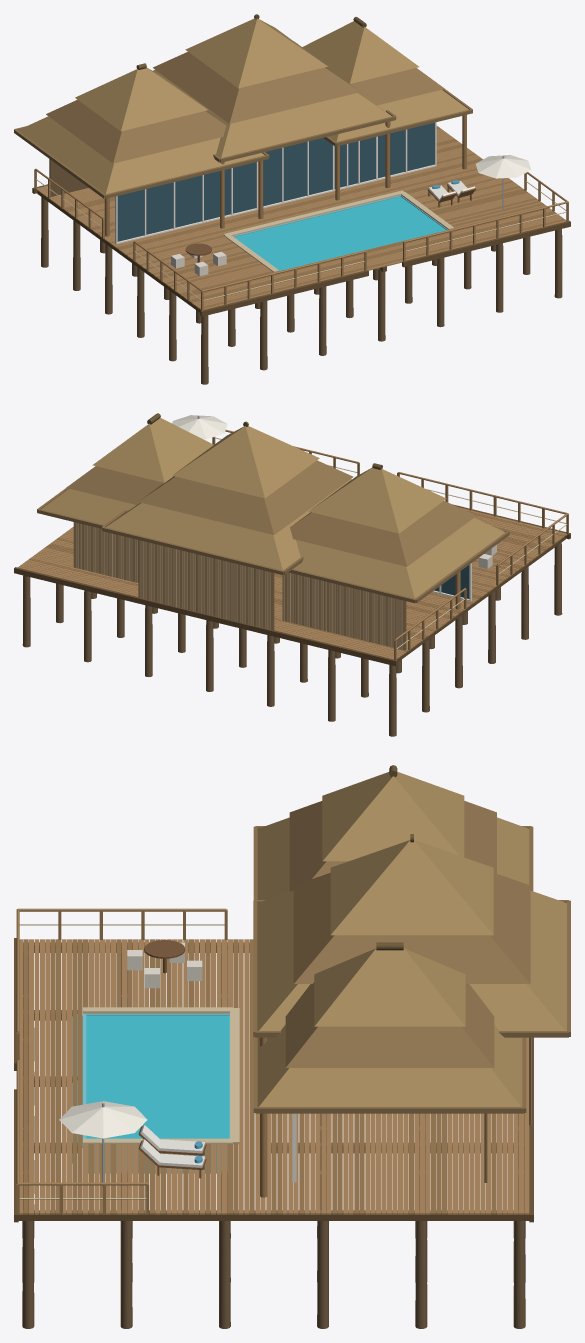
File: grand.glb
The picture shows the model from 3 angles, top to bottom: view 1: azimuth 30°, elevation 25°; view 2: azimuth 150°, elevation 25°; view 3: azimuth 270°, elevation 25°; orthographic projection. The views are drawn at different scales.
Parts seen in each view (by area): view 1: poolwater_364, thatch2_300, thatch_228, glass_296, thatch_301, thatch2_229, thatch_299, glass_225, thatch_230, thatch_355, glass_350, thatch_353 (+45 smaller); view 2: thatch2_300, thatch_228, thatch_299, thatch_301, thatch2_229, thatch_230, thatch_355, beam_50, thatch2_354, thatch_353, thatch2_304, canvas_389 (+25 smaller); view 3: poolwater_364, thatch_301, thatch_353, thatch_299, thatch2_300, thatch2_354, thatch_355, thatch_230, thatch2_229, thatch_228, beam_43, canvas_389 (+28 smaller).
Boxes of the visible parts, x1,y1,x2,y2 form: poolwater_364: (234,196,446,270); thatch2_300: (153,52,360,123); thatch_228: (18,116,264,194); glass_296: (233,138,357,213); thatch_301: (185,18,327,88); thatch2_229: (46,99,226,163); thatch_299: (153,70,391,157); glass_225: (117,168,230,241); thatch_230: (75,68,207,131); thatch_355: (302,21,419,83); glass_350: (348,122,434,185); thatch_353: (329,89,468,141); thatch2_300: (138,460,353,534); thatch_228: (293,518,505,598); thatch_299: (106,479,351,570); thatch_301: (172,426,319,498); thatch2_229: (290,501,476,566); thatch_230: (308,467,446,533); thatch_355: (92,418,213,482); beam_50: (14,567,397,666); thatch2_354: (66,466,163,504); thatch_353: (41,488,136,524); thatch2_304: (102,527,283,574); canvas_389: (172,415,227,439); poolwater_364: (86,1015,229,1138); thatch_301: (330,840,493,935); thatch_353: (257,1024,522,1106); thatch_299: (257,890,566,1030); thatch2_300: (293,872,530,983); thatch2_354: (285,982,494,1067); thatch_355: (314,948,465,1026); thatch_230: (322,772,464,861); thatch2_229: (289,801,496,891); thatch_228: (257,817,529,899); beam_43: (18,1210,529,1220); canvas_389: (59,1101,147,1138).
Size of the model in its own units: 20.2 by 11.62 by 16.33.
